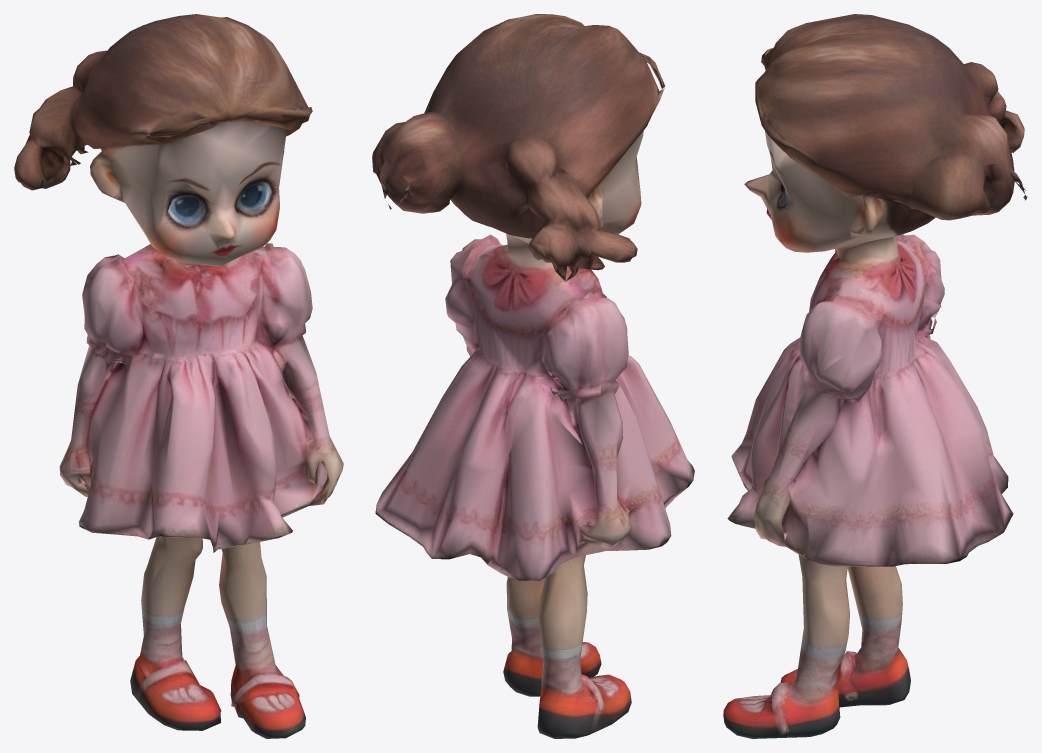
The model's file is doll.glb.
3 views of the same model, side by side, from view 1: azimuth 30°, elevation 25°; view 2: azimuth 150°, elevation 25°; view 3: azimuth 270°, elevation 25° (orthographic). The views are drawn at different scales.
Parts seen in each view (by area): view 1: Mesh_0; view 2: Mesh_0; view 3: Mesh_0.
Boxes of the visible parts, x1=… form: Mesh_0: x1=14, y1=14, x2=343, y2=738; Mesh_0: x1=372, y1=14, x2=694, y2=738; Mesh_0: x1=723, y1=14, x2=1027, y2=738.
Size of the model in its own units: 0.8027 by 2 by 0.8043.
1 material, 1 textured.
